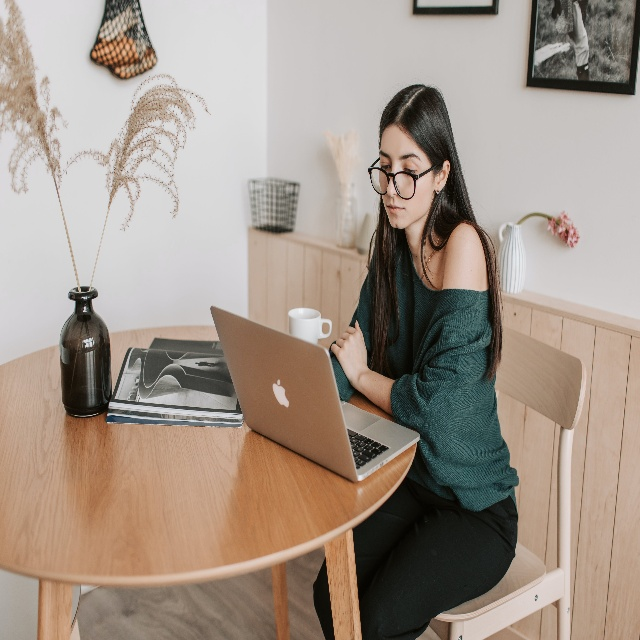Gafas: (367, 156, 443, 201)
Sin_guantes: (329, 320, 368, 389)
